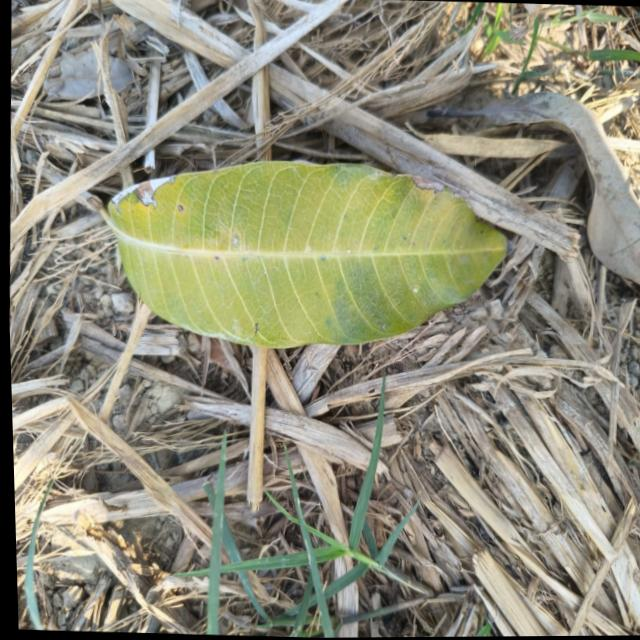Powdery Mildew: (113, 183, 157, 209), (232, 236, 238, 244)
black die: (177, 205, 184, 212)
